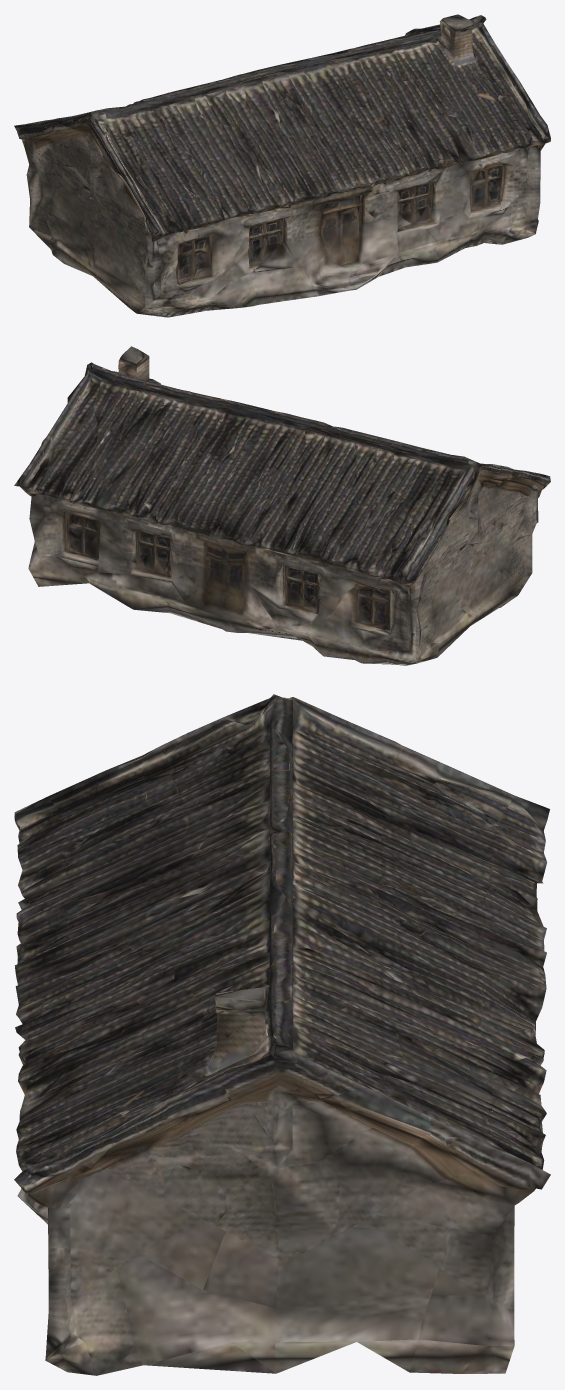
The model's file is bq_house_stone.far.glb.
3 renders of one model, top to bottom at view 1: azimuth 30°, elevation 25°; view 2: azimuth 150°, elevation 25°; view 3: azimuth 270°, elevation 25°, orthographic. The views are drawn at different scales.
Bounding box in the file's own units: 1.9 × 0.8573 × 1.16.
1 material, 1 textured.
